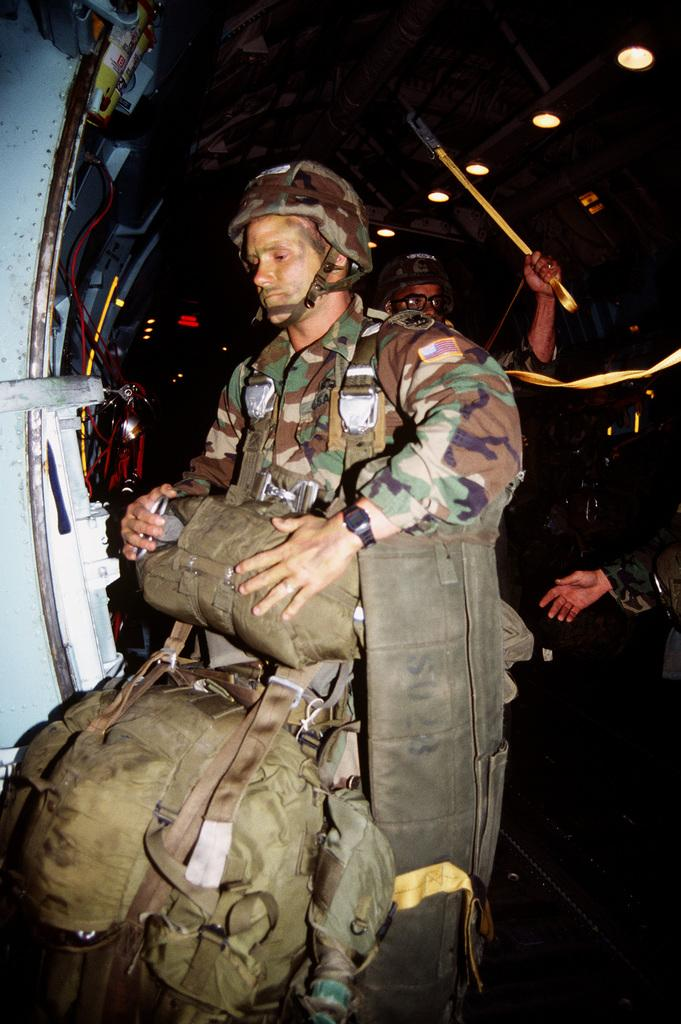Luggage-and-bags: (18, 655, 396, 1013)
